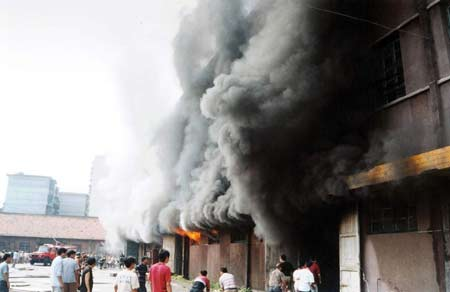smoke: (164, 15, 389, 227)
